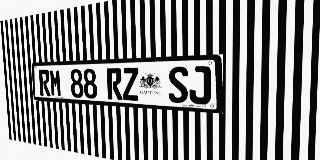8: (83, 68, 97, 99), (70, 69, 84, 98)
J: (189, 66, 211, 105)
M: (49, 69, 62, 97)
R: (106, 68, 122, 100), (38, 69, 50, 96)
S: (168, 66, 188, 103)
Z: (122, 67, 139, 101)
